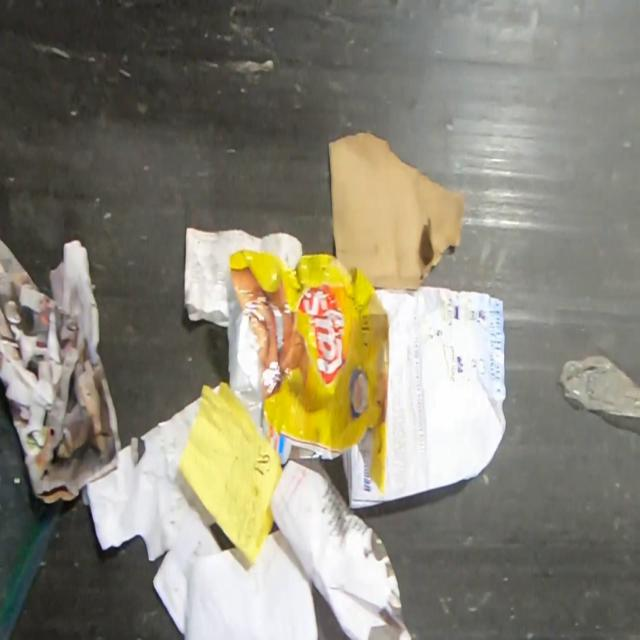cardboard: (327, 129, 467, 292)
soft_plastic: (226, 246, 391, 495), (0, 380, 67, 639), (556, 354, 640, 421)
